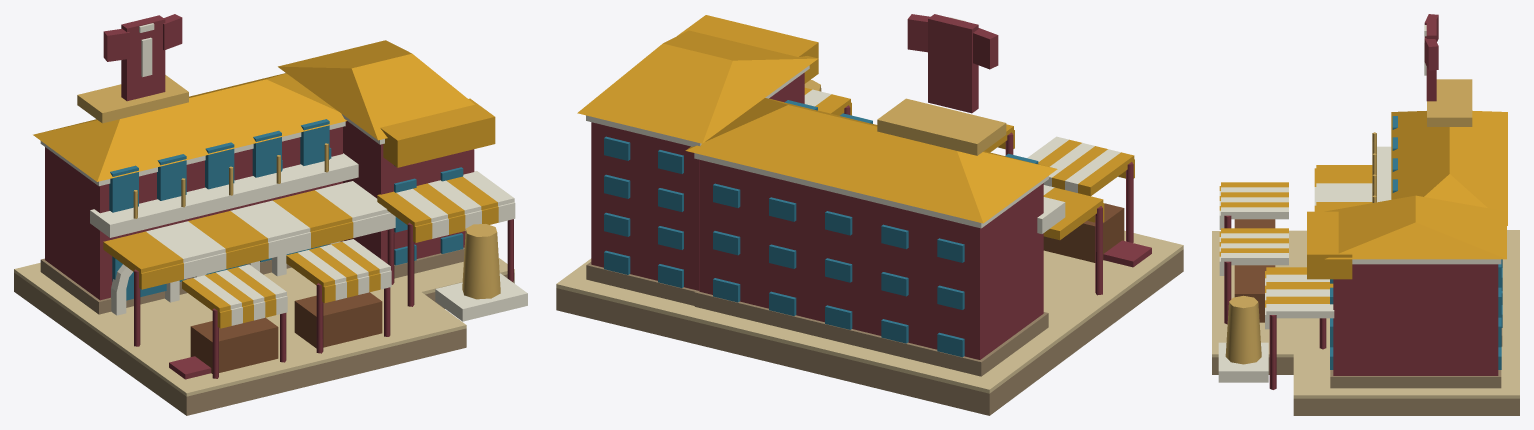
File: club-shop-lv3.glb
The picture shows the model from 3 angles, left to right: view 1: azimuth 30°, elevation 25°; view 2: azimuth 150°, elevation 25°; view 3: azimuth 270°, elevation 25°; orthographic projection. The views are drawn at different scales.
Visible parts, largest first — view 1: foundation_sand, market_row_roof_ochre, awnings_ochre, market_row_burgundy, awnings_white, retail_corner_roof_ochre, foundation_stoneDark, market_stalls_wood, shop_balcony_white, upper_shop_windows_glass, retail_corner_burgundy, corner_gate_ochre (+15 smaller); view 2: market_row_burgundy, market_row_roof_ochre, foundation_sand, foundation_stoneDark, retail_corner_roof_ochre, retail_corner_burgundy, market_row_windows_glass, jersey_sign_burgundy, market_row_stoneDark, awnings_ochre, sign_plinth_gold, retail_corner_windows_glass (+9 smaller); view 3: retail_corner_burgundy, foundation_sand, market_row_roof_ochre, retail_corner_roof_ochre, awnings_white, awnings_ochre, foundation_stoneDark, corner_gate_ochre, retail_corner_stoneDark, club_trophy_gold, sign_plinth_gold, market_stalls_wood (+9 smaller).
Part boxes in pixels (x1,y1,x2,y2): foundation_sand: (14,258,514,396); market_row_roof_ochre: (33,73,346,181); awnings_ochre: (103,176,497,315); market_row_burgundy: (45,127,342,300); awnings_white: (146,171,514,309); retail_corner_roof_ochre: (278,40,474,140); foundation_stoneDark: (14,272,514,415); market_stalls_wood: (190,292,382,373); shop_balcony_white: (90,153,358,237); upper_shop_windows_glass: (109,119,329,212); retail_corner_burgundy: (343,121,474,263); corner_gate_ochre: (380,98,495,167); market_row_burgundy: (699,159,1043,359); market_row_roof_ochre: (685,98,1057,223); foundation_sand: (556,230,1183,393); foundation_stoneDark: (556,249,1183,415); retail_corner_roof_ochre: (577,30,818,143); retail_corner_burgundy: (591,72,804,290); market_row_windows_glass: (713,183,964,357); jersey_sign_burgundy: (907,14,998,113); market_row_stoneDark: (694,292,1048,376); awnings_ochre: (804,87,1134,240); sign_plinth_gold: (877,98,1006,155); retail_corner_windows_glass: (604,136,683,287); retail_corner_burgundy: (1333,264,1498,375); foundation_sand: (1212,230,1519,398); market_row_roof_ochre: (1391,110,1507,225); retail_corner_roof_ochre: (1325,195,1506,259); awnings_white: (1221,183,1372,318); awnings_ochre: (1221,165,1372,303); foundation_stoneDark: (1212,357,1519,415); corner_gate_ochre: (1307,211,1352,279); retail_corner_stoneDark: (1330,370,1501,388); club_trophy_gold: (1225,295,1261,364); sign_plinth_gold: (1427,79,1472,126); market_stalls_wood: (1234,219,1275,322).
Bounding box in the file's own units: 1 × 0.7283 × 0.7861.
